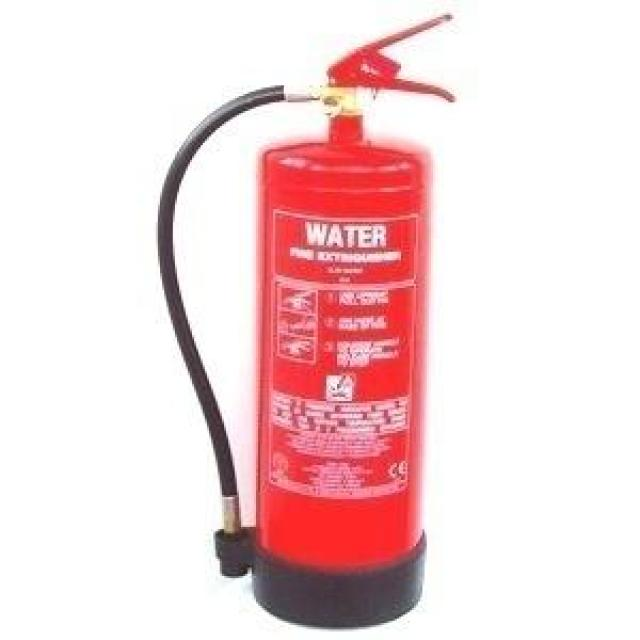fire_extinguisher: (145, 7, 461, 637)
